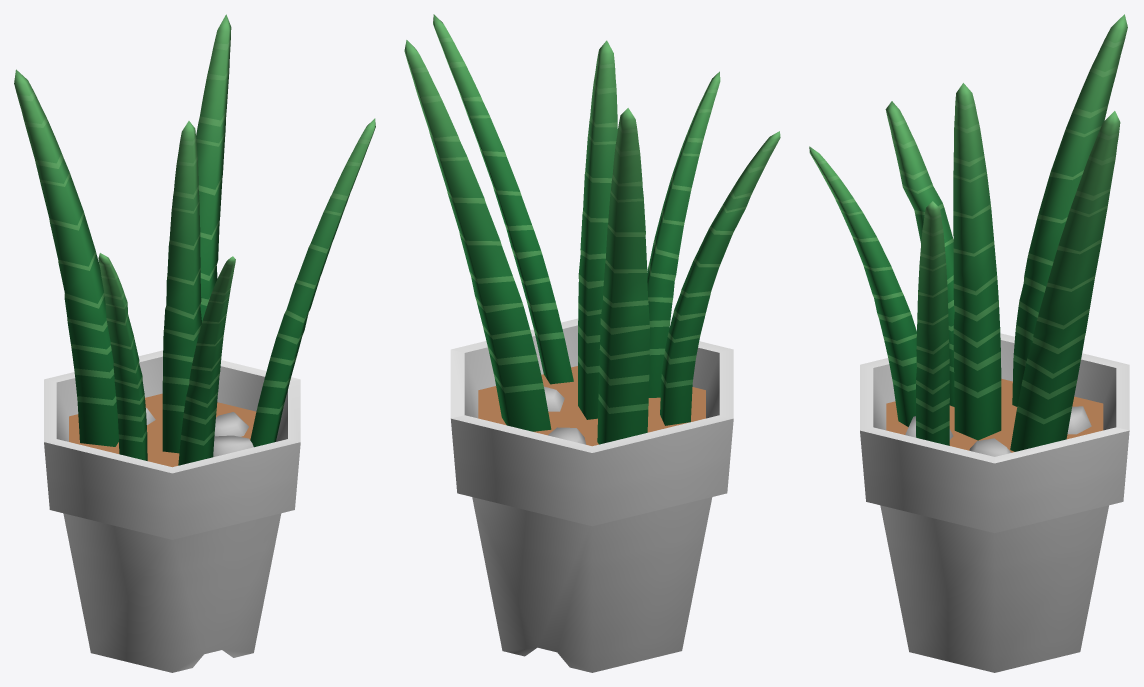
Rendered from CR_Pot_001.FBX.
The picture shows the model from 3 angles, left to right: view 1: azimuth 30°, elevation 25°; view 2: azimuth 150°, elevation 25°; view 3: azimuth 270°, elevation 25°; orthographic projection. The views are drawn at different scales.
Visible parts, largest first — view 1: CR_Pot_001; view 2: CR_Pot_001; view 3: CR_Pot_001.
Part boxes in pixels (<box>): CR_Pot_001: <box>14,14,375,672</box>; CR_Pot_001: <box>404,14,780,672</box>; CR_Pot_001: <box>809,14,1129,672</box>.
Bounding box in the file's own units: 7.61 × 13.22 × 6.64.
